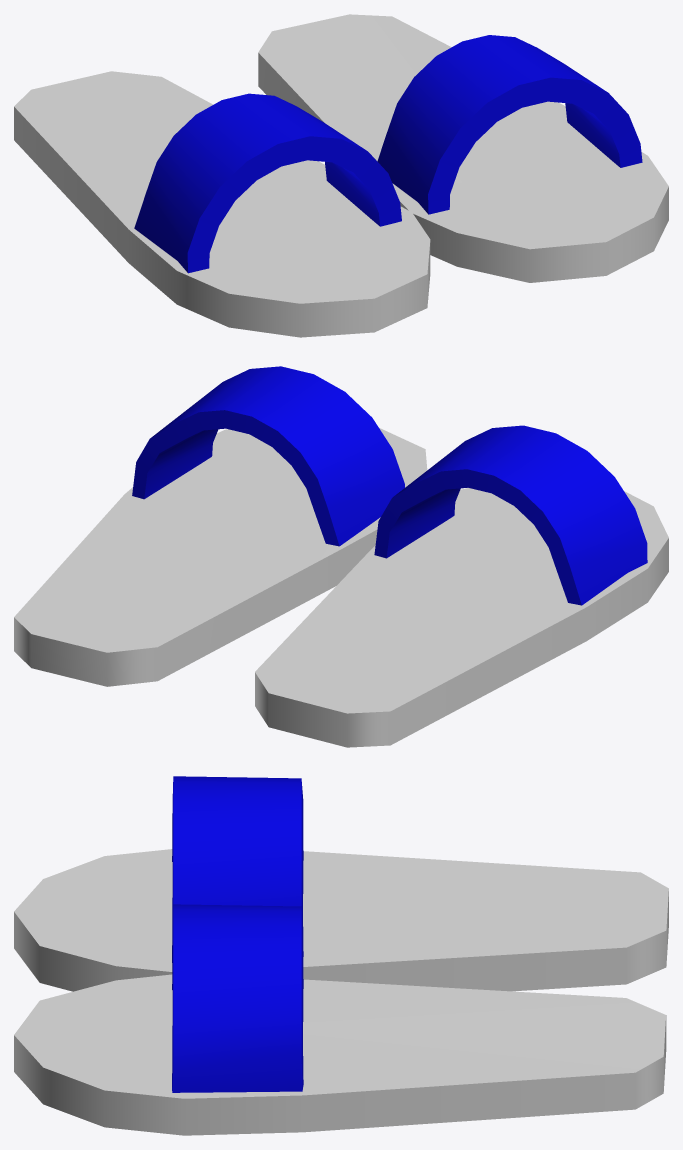
File: Slippers.fbx
The picture shows the model from 3 angles, top to bottom: view 1: azimuth 30°, elevation 25°; view 2: azimuth 150°, elevation 25°; view 3: azimuth 270°, elevation 25°; orthographic projection. The views are drawn at different scales.
Parts seen in each view (by area): view 1: pCylinder2, pasted__pTorus1, pTorus1; view 2: pCylinder2, pasted__pTorus1, pTorus1; view 3: pCylinder2, pTorus1, pasted__pTorus1.
Part boxes in pixels (left/top/right/bottom): pCylinder2: left=14, top=14, right=668, bottom=337; pasted__pTorus1: left=134, top=93, right=401, bottom=273; pTorus1: left=377, top=35, right=642, bottom=214; pCylinder2: left=14, top=428, right=668, bottom=747; pasted__pTorus1: left=374, top=425, right=647, bottom=605; pTorus1: left=132, top=366, right=404, bottom=546; pCylinder2: left=14, top=849, right=668, bottom=1135; pTorus1: left=172, top=904, right=303, bottom=1092; pasted__pTorus1: left=172, top=776, right=303, bottom=962.
Size of the model in its own units: 3.46 by 0.9908 by 3.82.
